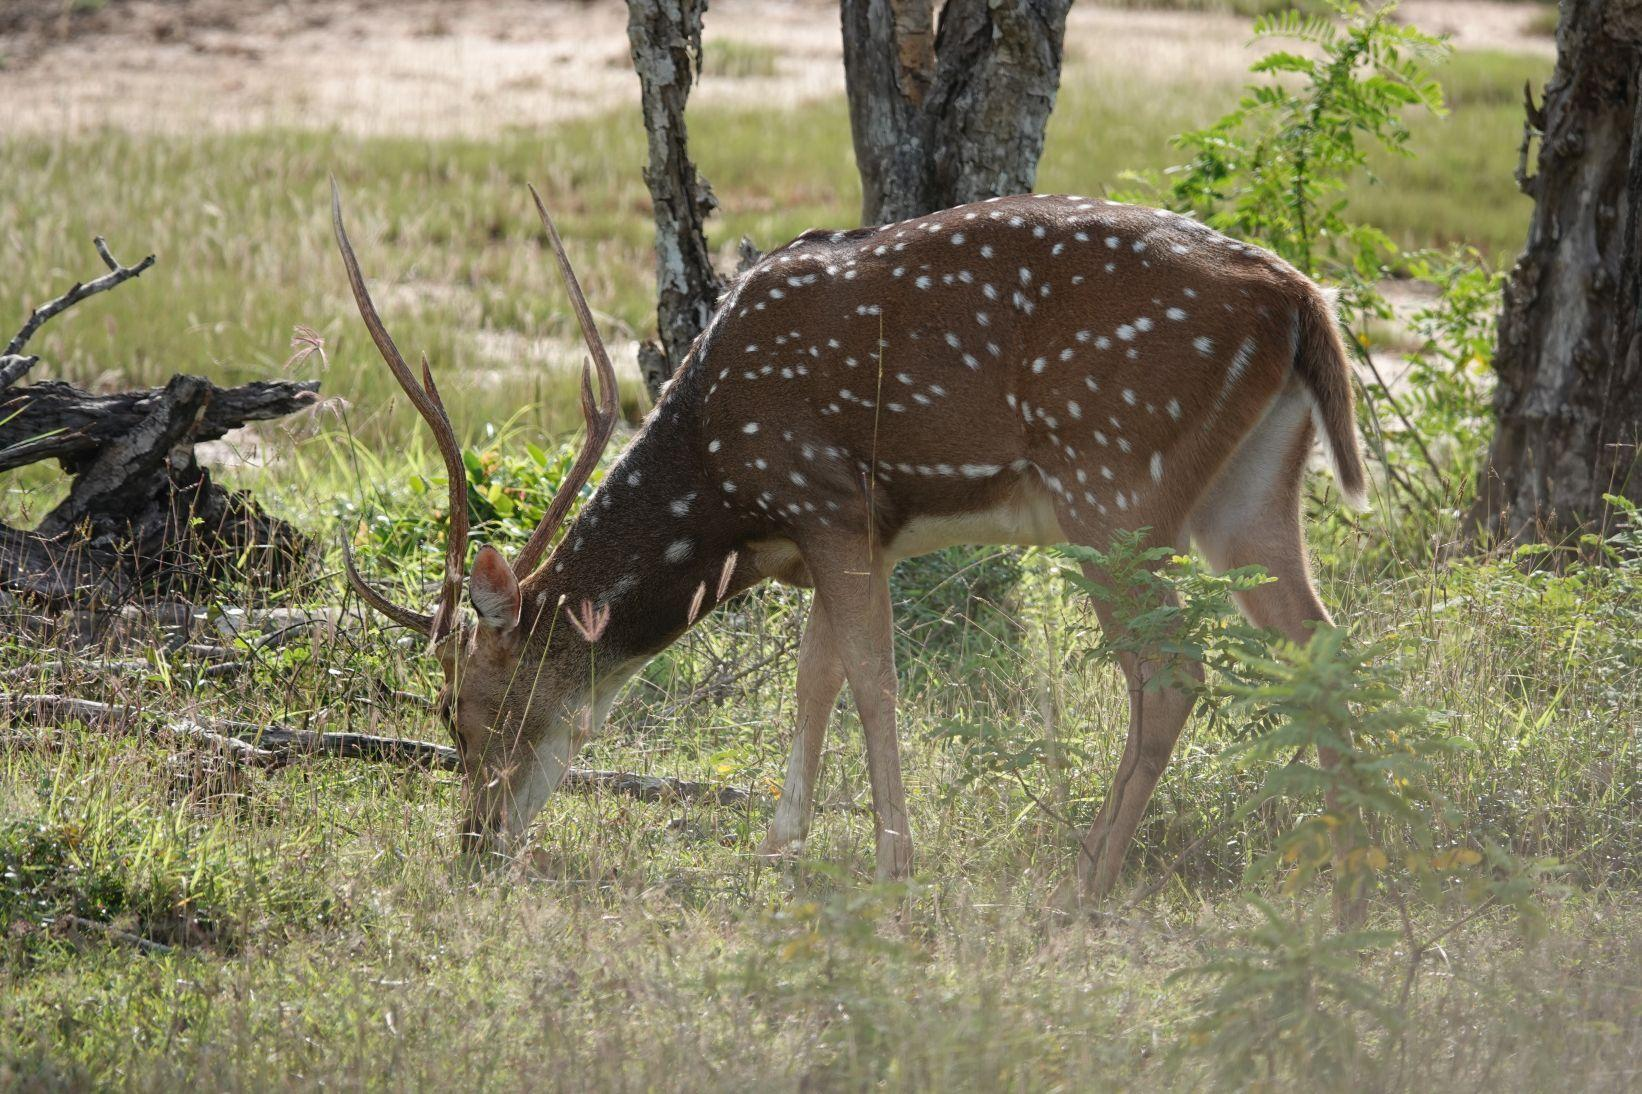Deer: (436, 189, 1366, 880), (335, 186, 468, 641)
